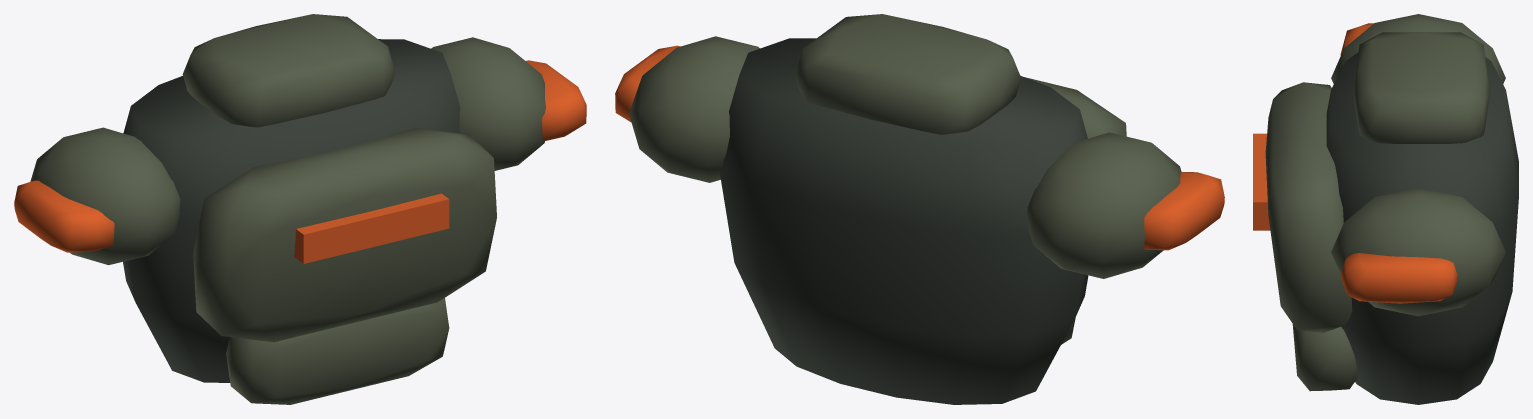
The model's file is Bastion_FlameTrooper_Torso.obj.
The picture shows the model from 3 angles, left to right: view 1: azimuth 30°, elevation 25°; view 2: azimuth 150°, elevation 25°; view 3: azimuth 270°, elevation 25°; orthographic projection. The views are drawn at different scales.
Visible parts, largest first — view 1: ChestArmor, TorsoCore, Collar, AbdomenArmor, LeftShoulder, RightShoulder, ChestStripe, LeftShoulderMark, RightShoulderMark; view 2: TorsoCore, Collar, LeftShoulder, RightShoulder, LeftShoulderMark, ChestArmor, RightShoulderMark; view 3: TorsoCore, ChestArmor, Collar, RightShoulder, RightShoulderMark, AbdomenArmor, LeftShoulder, ChestStripe, LeftShoulderMark.
Part boxes in pixels (box(x1,y1,x2,y2)): ChestArmor: box(193, 127, 496, 342); TorsoCore: box(123, 39, 460, 382); Collar: box(182, 14, 395, 127); AbdomenArmor: box(226, 298, 449, 404); LeftShoulder: box(30, 127, 180, 265); RightShoulder: box(431, 37, 545, 170); ChestStripe: box(294, 193, 449, 263); LeftShoulderMark: box(14, 180, 114, 252); RightShoulderMark: box(526, 60, 586, 140); TorsoCore: box(719, 38, 1088, 404); Collar: box(794, 14, 1021, 134); LeftShoulder: box(1027, 132, 1181, 278); RightShoulder: box(629, 36, 759, 182); LeftShoulderMark: box(1144, 171, 1224, 250); ChestArmor: box(1025, 77, 1126, 138); RightShoulderMark: box(615, 45, 680, 122); TorsoCore: box(1326, 52, 1518, 404); ChestArmor: box(1265, 82, 1352, 332); Collar: box(1353, 32, 1490, 143); RightShoulder: box(1331, 189, 1505, 316); RightShoulderMark: box(1340, 253, 1457, 303); AbdomenArmor: box(1292, 324, 1357, 391); LeftShoulder: box(1331, 14, 1505, 83); ChestStripe: box(1253, 133, 1270, 230); LeftShoulderMark: box(1340, 23, 1373, 55).
Bounding box in the file's own units: 0.9548 × 0.5249 × 0.4259.
1 material, 1 textured.
